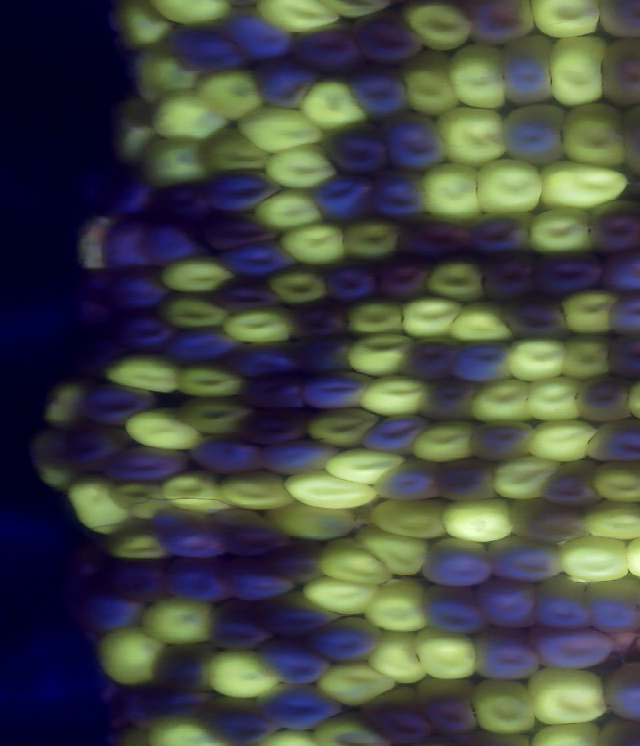fluorescent: (535, 153, 634, 216), (522, 661, 615, 728), (554, 99, 634, 174), (228, 101, 326, 160), (433, 99, 512, 171), (127, 39, 207, 110), (91, 621, 171, 691), (543, 30, 612, 111), (397, 49, 470, 122), (442, 37, 510, 115), (143, 85, 235, 142), (313, 533, 401, 592), (135, 134, 216, 198), (259, 496, 362, 546), (135, 594, 226, 650), (466, 672, 543, 738), (415, 159, 490, 226), (471, 155, 548, 220), (408, 624, 487, 687), (117, 404, 209, 458), (257, 139, 344, 196), (314, 657, 404, 711), (354, 521, 432, 583), (550, 532, 636, 588), (201, 645, 283, 703), (354, 575, 433, 635), (189, 66, 272, 123), (368, 492, 455, 545), (364, 626, 436, 690), (281, 466, 379, 513), (294, 73, 370, 133), (209, 464, 300, 514), (195, 123, 276, 179), (398, 1, 480, 56), (344, 329, 424, 385), (486, 451, 565, 507), (438, 494, 520, 547), (523, 204, 601, 259), (149, 253, 240, 300), (300, 403, 384, 453), (98, 348, 182, 398), (170, 388, 250, 440), (320, 444, 410, 490), (106, 1, 178, 58), (297, 571, 384, 618), (275, 215, 351, 268), (247, 184, 325, 235), (469, 374, 540, 429), (357, 371, 436, 420), (523, 415, 603, 463), (103, 512, 174, 566), (158, 464, 233, 515), (62, 476, 129, 533), (446, 296, 519, 348), (109, 99, 164, 168), (168, 360, 254, 404), (503, 332, 574, 385), (422, 259, 493, 312), (557, 285, 624, 341), (101, 477, 179, 525), (523, 1, 608, 45), (25, 427, 77, 498), (407, 418, 481, 467), (250, 1, 346, 38), (392, 295, 466, 343), (263, 261, 330, 313), (154, 292, 234, 335), (554, 331, 616, 384), (341, 213, 403, 266), (522, 375, 589, 424), (37, 374, 92, 433), (308, 711, 398, 746), (224, 304, 295, 348), (345, 297, 414, 342), (581, 494, 640, 544), (586, 457, 640, 507), (141, 1, 233, 28)
nonfluorescent: (256, 676, 353, 738), (106, 679, 214, 734), (497, 98, 573, 172), (148, 503, 237, 566), (164, 17, 250, 81), (372, 107, 449, 178), (249, 592, 350, 645), (61, 577, 153, 635), (85, 157, 166, 221), (525, 624, 622, 677), (217, 2, 296, 67), (414, 673, 494, 737), (286, 17, 371, 77), (468, 623, 547, 687), (304, 612, 391, 670), (505, 494, 598, 548), (202, 503, 293, 558), (483, 530, 570, 587), (193, 687, 277, 746), (497, 28, 557, 110), (318, 116, 393, 181), (200, 165, 288, 220), (156, 555, 243, 610), (348, 9, 427, 69), (415, 533, 499, 589), (495, 291, 579, 346), (414, 580, 492, 639), (54, 417, 137, 472), (92, 555, 178, 608), (362, 681, 432, 746), (150, 636, 227, 695), (98, 442, 192, 490), (185, 432, 267, 486), (530, 572, 598, 637), (475, 573, 543, 638), (250, 634, 331, 688), (74, 380, 164, 428), (242, 535, 330, 584), (193, 206, 284, 253), (307, 171, 378, 231), (369, 454, 446, 509), (219, 335, 309, 382), (135, 212, 210, 268), (394, 214, 480, 262), (249, 54, 320, 112), (530, 246, 606, 300), (578, 574, 640, 640), (534, 458, 607, 514), (571, 369, 640, 428), (58, 266, 116, 336), (54, 325, 123, 383), (286, 329, 360, 383), (203, 601, 277, 655), (253, 433, 343, 477), (157, 322, 244, 367), (343, 63, 411, 120), (296, 366, 378, 413), (236, 371, 318, 418), (427, 453, 504, 503), (469, 413, 540, 466), (445, 335, 521, 384), (360, 411, 436, 460), (469, 205, 542, 256), (368, 162, 431, 221), (214, 236, 300, 279), (394, 333, 469, 382), (215, 559, 298, 603), (102, 265, 175, 315), (466, 1, 542, 49), (418, 375, 488, 427), (204, 274, 285, 318), (582, 194, 640, 255), (578, 414, 640, 470), (480, 249, 543, 304), (595, 33, 640, 109), (103, 306, 178, 351), (97, 214, 157, 270), (375, 250, 438, 302), (150, 175, 218, 223), (238, 406, 313, 448), (318, 258, 385, 305), (600, 656, 640, 729), (26, 416, 79, 470), (284, 299, 351, 341), (594, 246, 640, 297), (589, 1, 640, 42), (601, 329, 640, 382), (602, 286, 640, 338)
